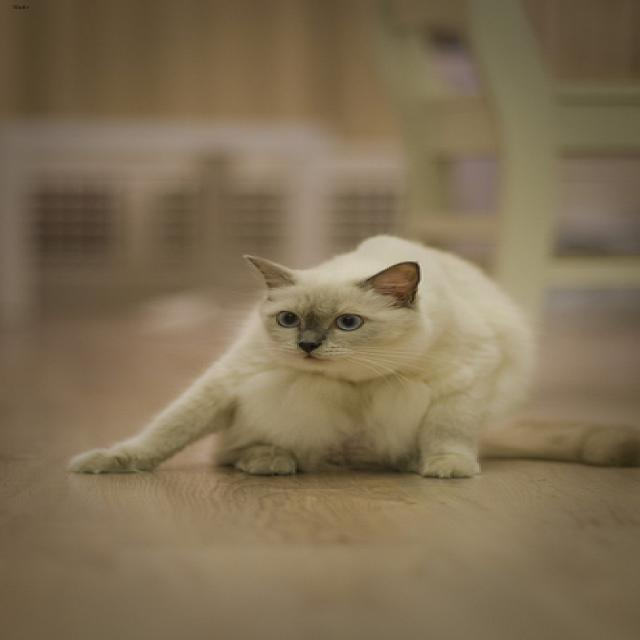Ragdoll: (240, 254, 418, 369)
